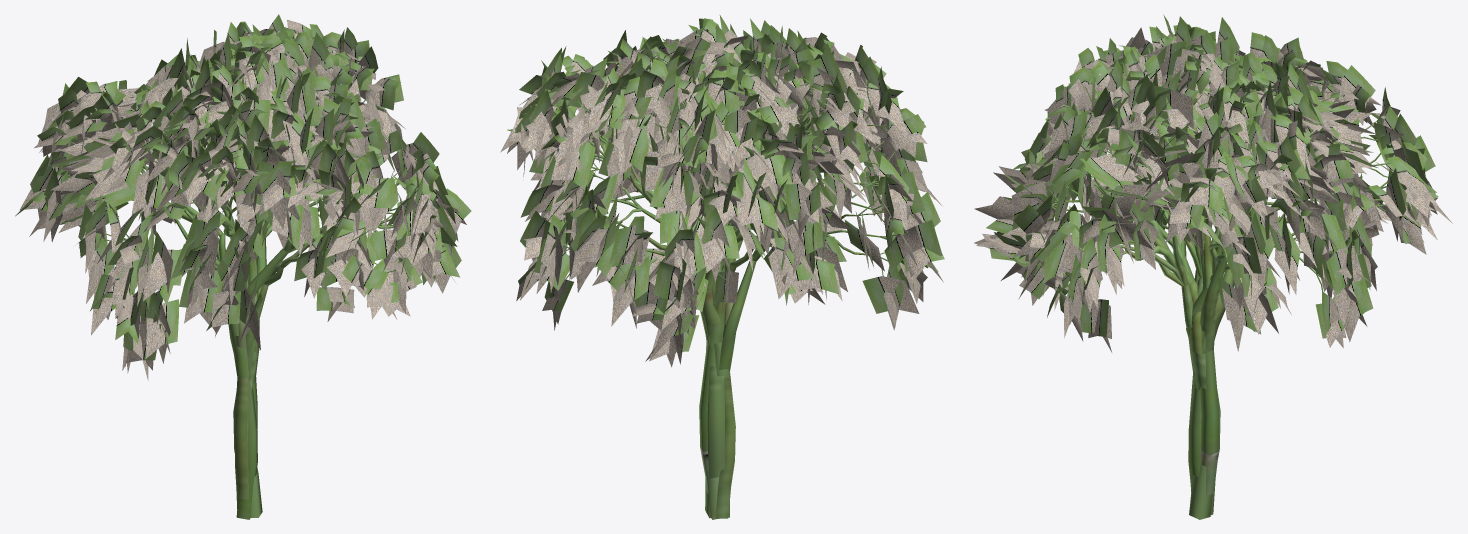
Rendered from TREE.obj.
3 renders of one model, left to right at view 1: azimuth 30°, elevation 25°; view 2: azimuth 150°, elevation 25°; view 3: azimuth 270°, elevation 25°, orthographic. The views are drawn at different scales.
Visible parts, largest first — view 1: Mossy_Tr_Mossy_Tr.jpg; view 2: Mossy_Tr_Mossy_Tr.jpg; view 3: Mossy_Tr_Mossy_Tr.jpg.
Boxes of the visible parts, <box> form: Mossy_Tr_Mossy_Tr.jpg: <box>15,14,471,519</box>; Mossy_Tr_Mossy_Tr.jpg: <box>500,14,944,519</box>; Mossy_Tr_Mossy_Tr.jpg: <box>974,14,1452,519</box>.
Bounding box in the file's own units: 19.21 × 24.69 × 22.66.
